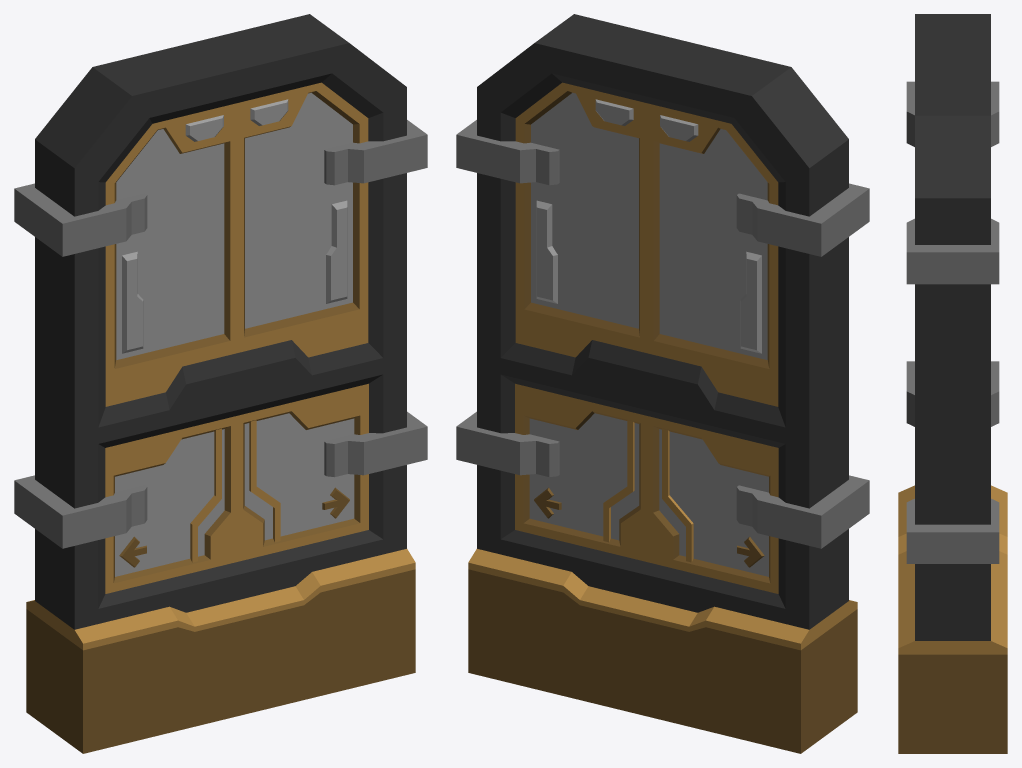
The model's file is quaternius-modular-sci-fi-door-single.glb.
The picture shows the model from 3 angles, left to right: view 1: azimuth 30°, elevation 25°; view 2: azimuth 150°, elevation 25°; view 3: azimuth 270°, elevation 25°; orthographic projection. The views are drawn at different scales.
Visible parts, largest first — view 1: Door_Single; view 2: Door_Single; view 3: Door_Single.
Boxes of the visible parts, x1,y1,x2,y2 form: Door_Single: (14,14,427,753); Door_Single: (456,14,869,753); Door_Single: (898,14,1007,753).
Bounding box in the file's own units: 1.67 × 2.79 × 0.4515.
